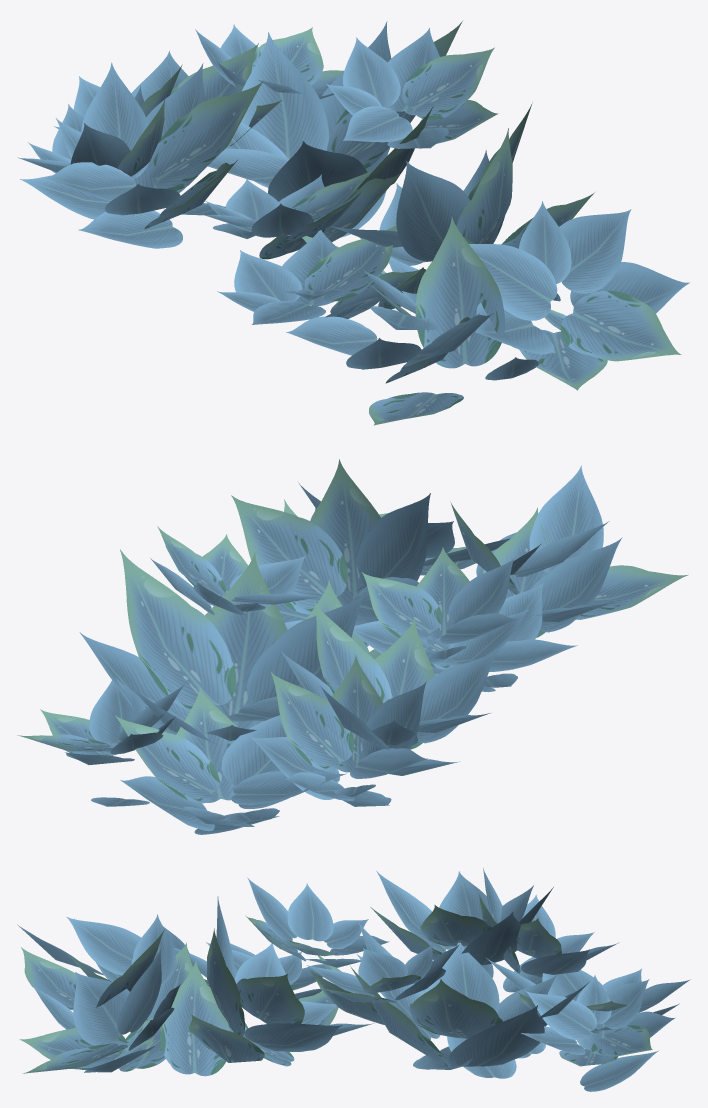
Rendered from bush_5_grand.fbx.
3 renders of one model, top to bottom at view 1: azimuth 30°, elevation 25°; view 2: azimuth 150°, elevation 25°; view 3: azimuth 270°, elevation 25°, orthographic. The views are drawn at different scales.
Visible parts, largest first — view 1: feuillage_5_grand; view 2: feuillage_5_grand; view 3: feuillage_5_grand.
Part boxes in pixels (x1=…): feuillage_5_grand: x1=17, y1=21, x2=689, y2=425; feuillage_5_grand: x1=17, y1=459, x2=688, y2=834; feuillage_5_grand: x1=17, y1=868, x2=690, y2=1091.
Size of the model in its own units: 122 by 56.68 by 208.
